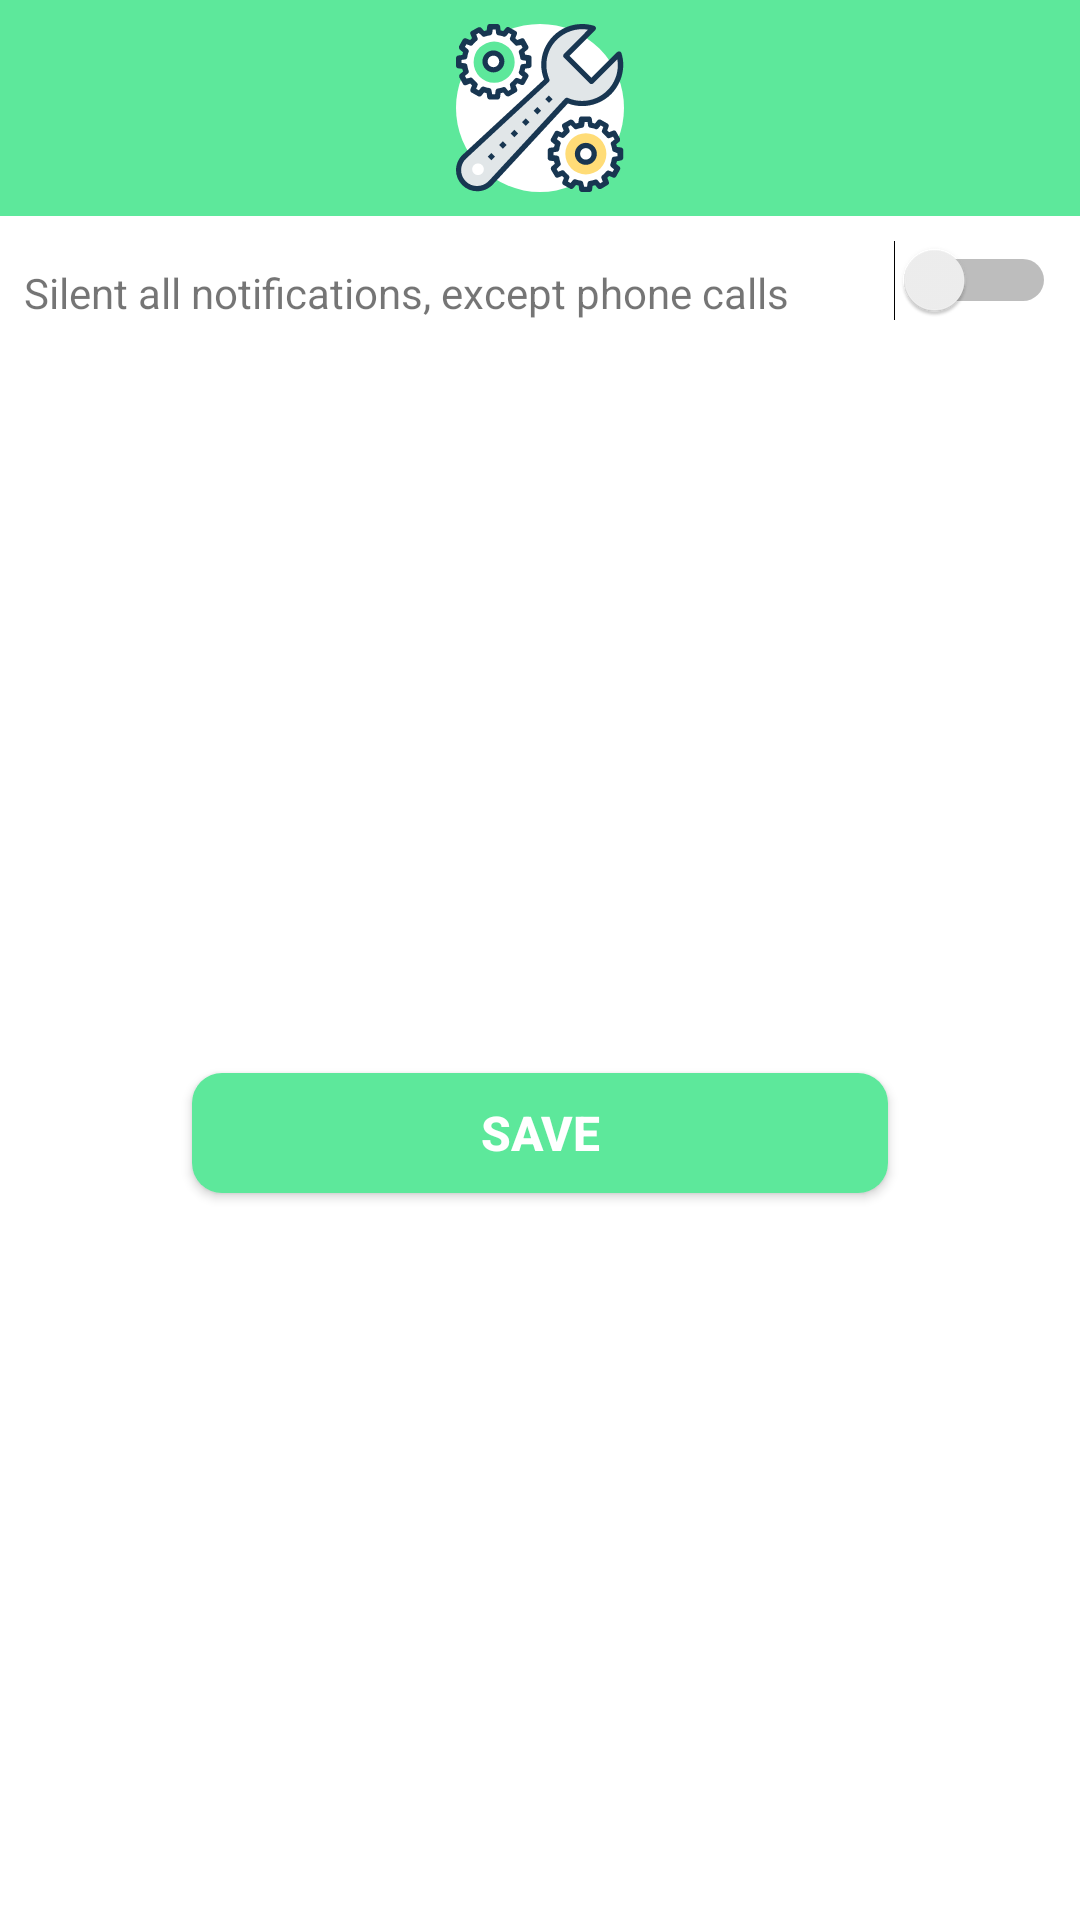

Icons on this 1080x1920 Android screen, each with its box as {"x1": x1, "y1": y1, "x2": x2, "y2": y2}:
setting: {"x1": 456, "y1": 24, "x2": 624, "y2": 192}
